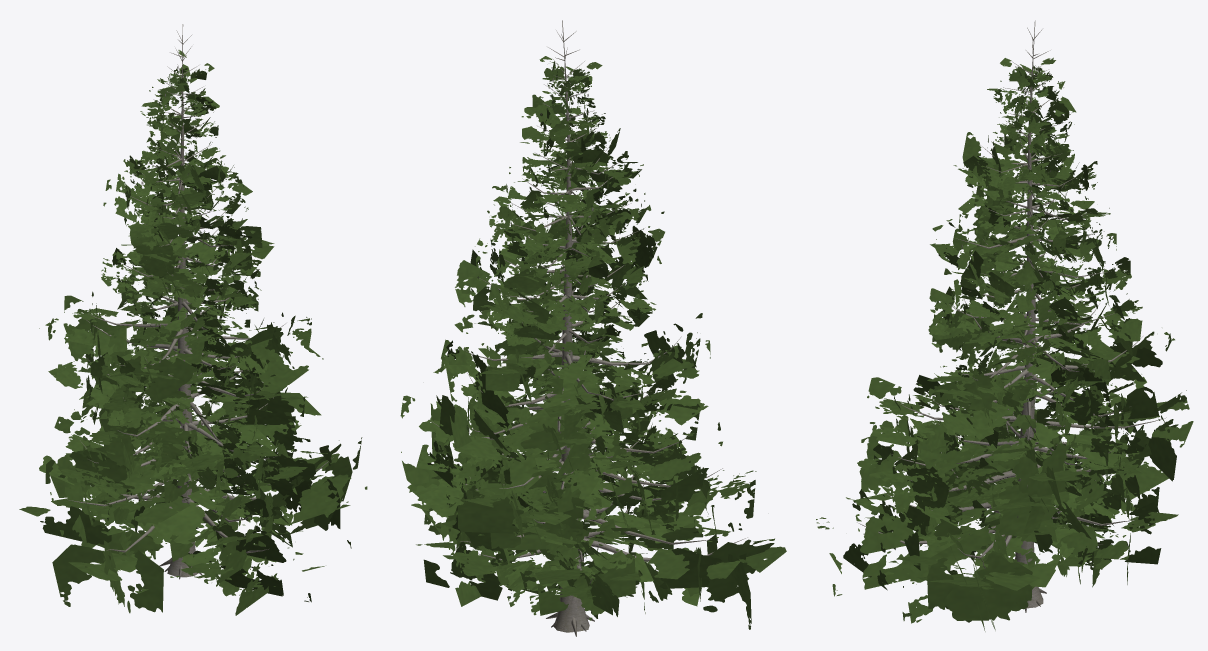
The model's file is HeroNorwaySpruceLOD0.fbx.
3 renders of one model, left to right at view 1: azimuth 30°, elevation 25°; view 2: azimuth 150°, elevation 25°; view 3: azimuth 270°, elevation 25°, orthographic. The views are drawn at different scales.
Visible parts, largest first — view 1: Foliage, Bark; view 2: Foliage, Bark; view 3: Foliage, Bark.
Boxes of the visible parts, left/top/right/bottom form: Foliage: left=19, top=50, right=367, bottom=615; Bark: left=67, top=24, right=333, bottom=579; Foliage: left=400, top=56, right=786, bottom=629; Bark: left=430, top=20, right=747, bottom=636; Foliage: left=816, top=57, right=1193, bottom=631; Bark: left=857, top=20, right=1166, bottom=612.
Bounding box in the file's own units: 13.26 × 22.63 × 13.17.
